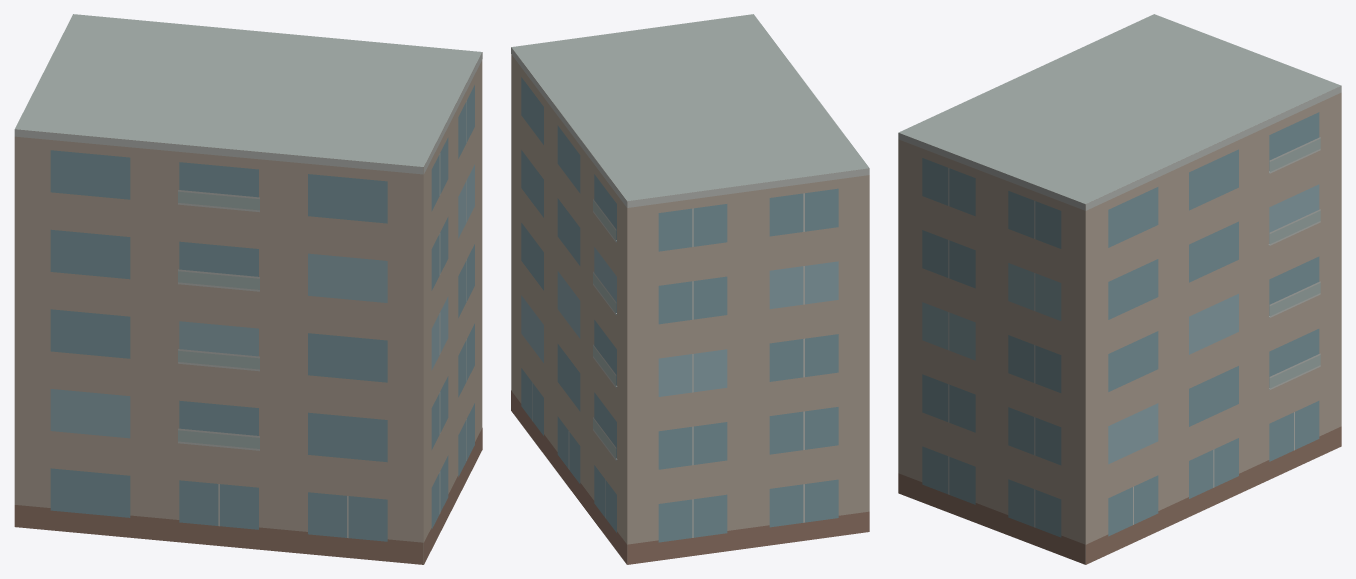
Rendered from survey-upis-32968109.glb.
3 renders of one model, left to right at view 1: azimuth 30°, elevation 25°; view 2: azimuth 150°, elevation 25°; view 3: azimuth 270°, elevation 25°, orthographic. The views are drawn at different scales.
Visible parts, largest first — view 1: survey-upis-32968109.tmp; view 2: survey-upis-32968109.tmp; view 3: survey-upis-32968109.tmp.
Boxes of the visible parts, x1,y1,x2,y2 form: survey-upis-32968109.tmp: (14,14,482,564); survey-upis-32968109.tmp: (511,14,869,564); survey-upis-32968109.tmp: (898,14,1341,564).
Bounding box in the file's own units: 14.83 × 13.1 × 14.6.
